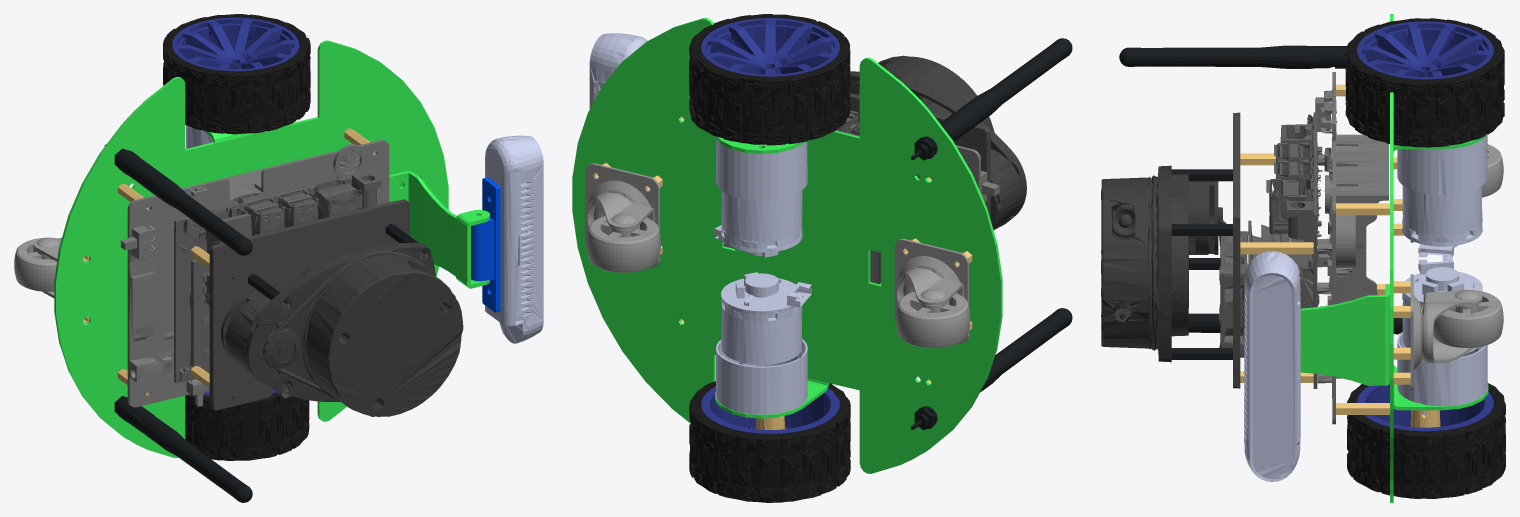
The model's file is jet.obj.
3 renders of one model, left to right at view 1: azimuth 30°, elevation 25°; view 2: azimuth 150°, elevation 25°; view 3: azimuth 270°, elevation 25°, orthographic. The views are drawn at different scales.
Parts seen in each view (by area): view 1: base_link, base_scan, imu_link, upper_plate_link, nano_link, wheel_left_tire, camera_link, wheel_right_tire, antenna_link, wheel_left_rim, camera_mount_link, caster_back_link (+2 smaller); view 2: base_link, wheel_left_tire, wheel_right_tire, right_motor_link, left_motor_link, caster_back_link, caster_front_link, wheel_left_rim, antenna_link, base_scan, wheel_right_rim, camera_link (+2 smaller); view 3: base_scan, camera_link, wheel_left_tire, wheel_right_tire, base_link, imu_link, nano_link, left_motor_link, wheel_left_rim, right_motor_link, caster_front_link, antenna_link (+6 smaller).
Boxes of the visible parts, left/top/right/bottom form: base_link: left=54, top=40, right=489, bottom=457; base_scan: left=221, top=242, right=463, bottom=416; imu_link: left=120, top=140, right=389, bottom=407; upper_plate_link: left=209, top=199, right=409, bottom=410; nano_link: left=174, top=171, right=381, bottom=398; wheel_left_tire: left=163, top=14, right=310, bottom=134; camera_link: left=485, top=135, right=543, bottom=343; wheel_right_tire: left=185, top=392, right=309, bottom=460; antenna_link: left=104, top=144, right=252, bottom=502; wheel_left_rim: left=172, top=17, right=299, bottom=71; camera_mount_link: left=471, top=177, right=500, bottom=312; caster_back_link: left=14, top=237, right=61, bottom=297; base_link: left=572, top=18, right=1002, bottom=473; wheel_left_tire: left=689, top=14, right=850, bottom=145; wheel_right_tire: left=689, top=381, right=850, bottom=502; right_motor_link: left=716, top=272, right=811, bottom=414; left_motor_link: left=714, top=138, right=807, bottom=257; caster_back_link: left=894, top=238, right=970, bottom=348; caster_front_link: left=585, top=163, right=660, bottom=272; wheel_left_rim: left=701, top=18, right=839, bottom=76; antenna_link: left=911, top=38, right=1072, bottom=430; base_scan: left=850, top=55, right=1026, bottom=229; wheel_right_rim: left=701, top=386, right=839, bottom=433; camera_link: left=589, top=33, right=647, bottom=108; base_scan: left=1101, top=165, right=1226, bottom=362; camera_link: left=1244, top=251, right=1300, bottom=481; wheel_left_tire: left=1345, top=18, right=1504, bottom=147; wheel_right_tire: left=1347, top=383, right=1505, bottom=498; base_link: left=1300, top=14, right=1488, bottom=502; imu_link: left=1315, top=72, right=1388, bottom=424; nano_link: left=1219, top=112, right=1322, bottom=388; left_motor_link: left=1397, top=134, right=1487, bottom=259; wheel_left_rim: left=1357, top=21, right=1493, bottom=79; right_motor_link: left=1397, top=258, right=1487, bottom=415; caster_front_link: left=1410, top=274, right=1503, bottom=391; antenna_link: left=1119, top=45, right=1402, bottom=334.
Size of the model in its own units: 0.2155 by 0.1878 by 0.1655.
